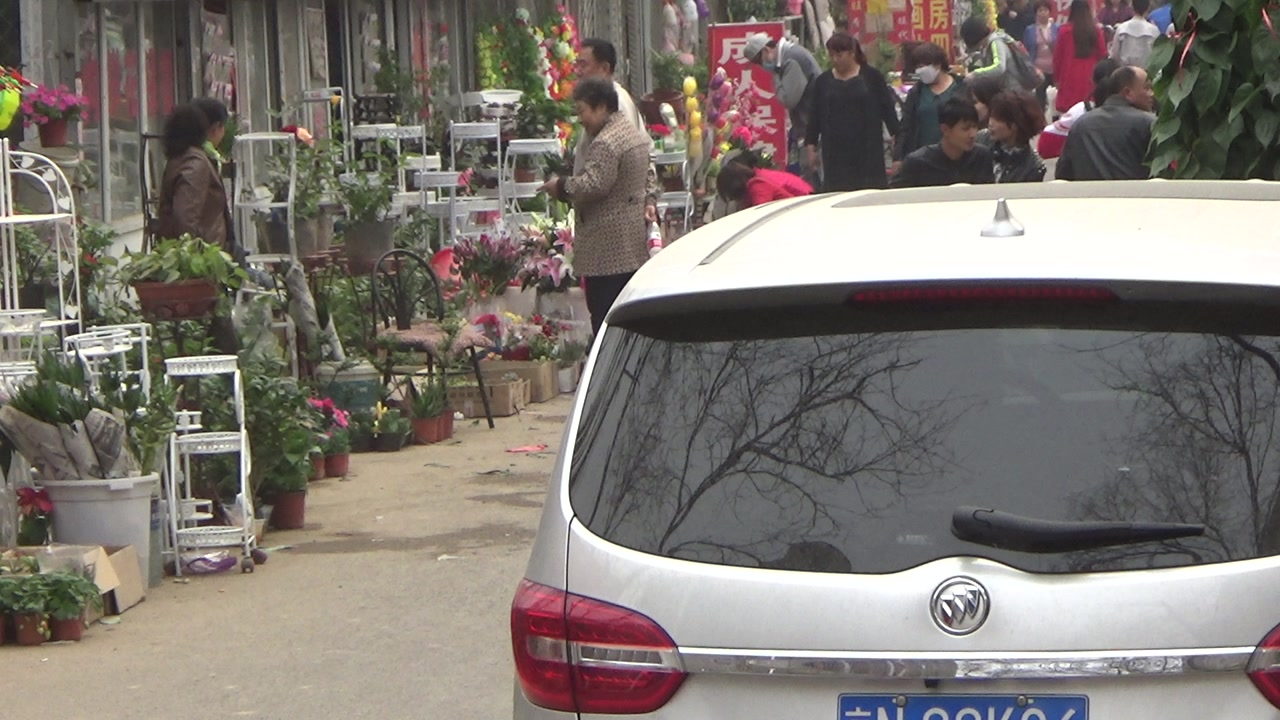person_others: (729, 150, 817, 197), (716, 160, 797, 210)
visperson_normal: (534, 74, 652, 339), (147, 94, 239, 354), (569, 34, 659, 227), (803, 33, 903, 194), (742, 32, 827, 193), (1053, 64, 1161, 180), (890, 40, 977, 180), (887, 95, 997, 189), (1035, 56, 1128, 158), (959, 14, 1043, 106), (975, 84, 1047, 183), (1050, 1, 1110, 113), (1109, 1, 1161, 68), (1021, 1, 1061, 85), (996, 1, 1036, 38), (1147, 1, 1172, 34)
